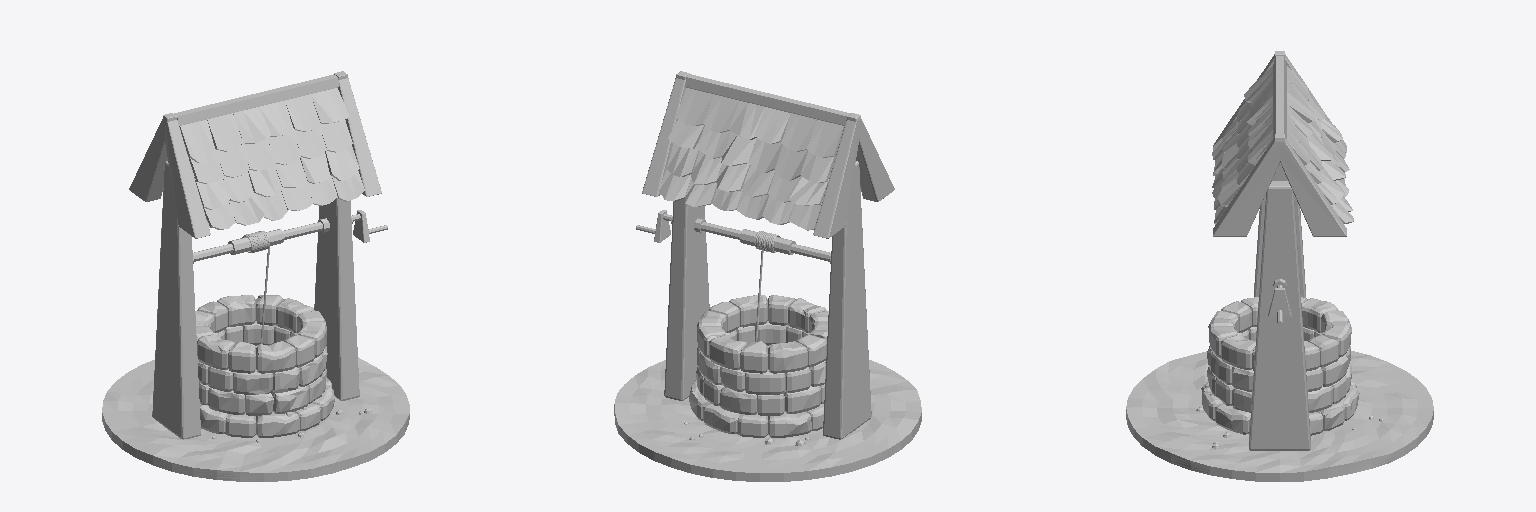
File: well.obj
The picture shows the model from 3 angles: view 1: azimuth 30°, elevation 25°; view 2: azimuth 150°, elevation 25°; view 3: azimuth 270°, elevation 25°; orthographic projection.
Parts seen in each view (by area): view 1: polySurface126; view 2: polySurface126; view 3: polySurface126.
Part boxes in pixels (left/top/right/bottom): polySurface126: left=102, top=71, right=409, bottom=481; polySurface126: left=614, top=71, right=921, bottom=481; polySurface126: left=1126, top=51, right=1433, bottom=481.
Size of the model in its own units: 12.11 by 14.02 by 12.11.